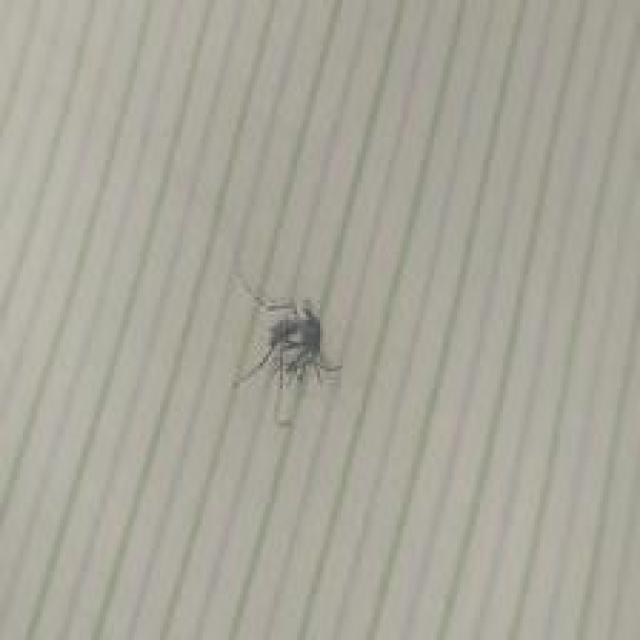Aedes albopictus: (228, 270, 343, 427)
